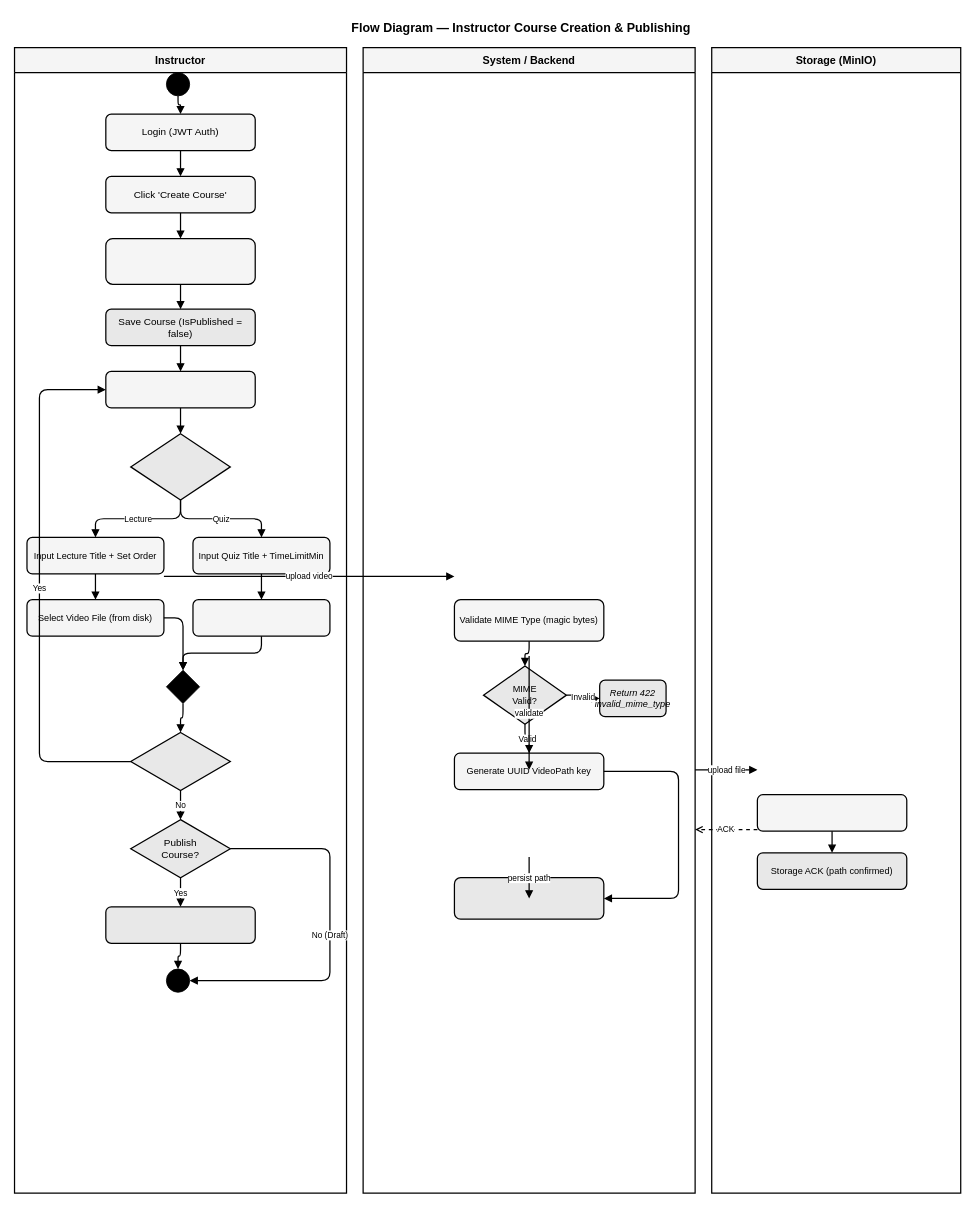
This 976x1208 diagram has some shape labels left out. The shapes that lost their labels are listed below. From the top down, each one's centre as x and y in pixels, then its label:
At point (180, 261): "Input: Title, Description, Upload Thumbnail".
At point (180, 389): "Add Module (Title, Order)".
At point (180, 466): "Content Type?".
At point (261, 617): "Add Questions + Answers (IsCorrect hidden)".
At point (180, 761): "Add More Content?".
At point (831, 812): "Upload Video to MinIO bucket".
At point (528, 898): "Persist Lecture.VideoPath = UUID".
At point (180, 925): "Set IsPublished = true".
